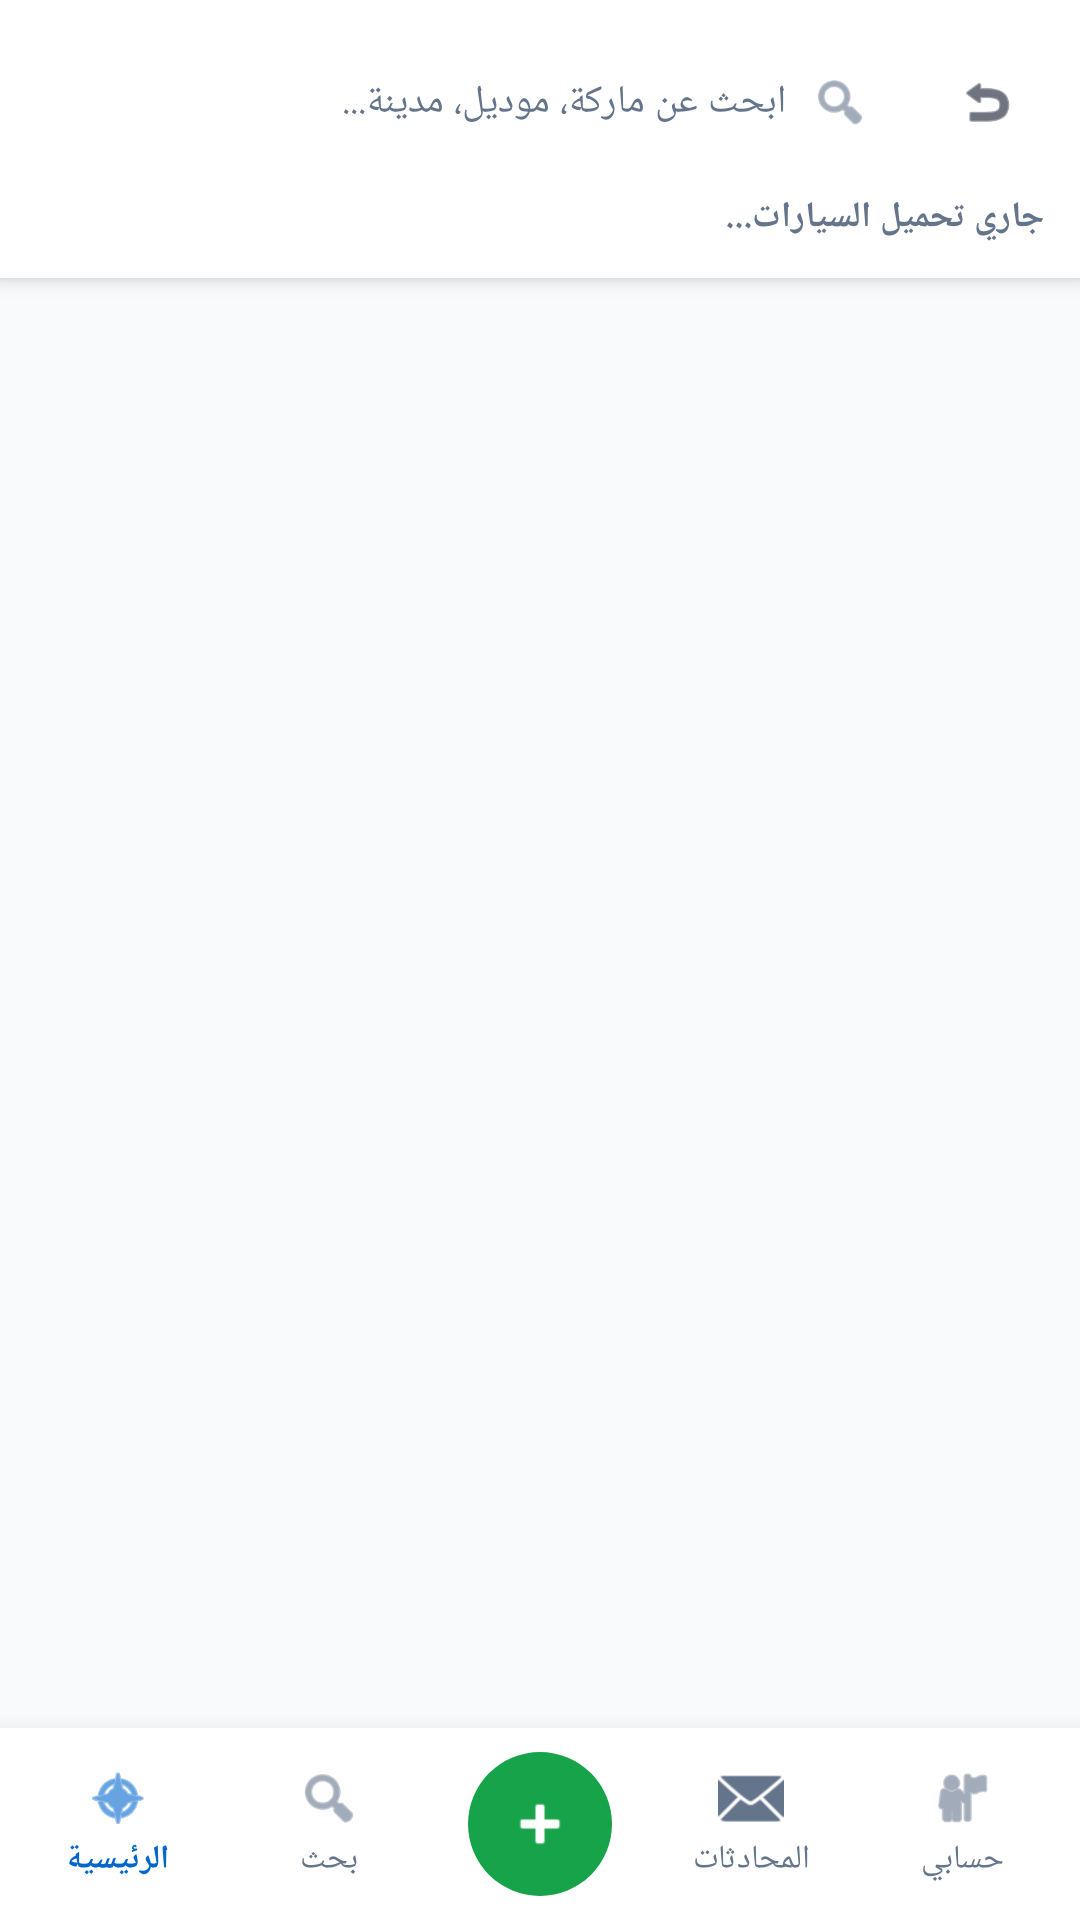

Screen size 1080 x 1920. Icon name, then its center in pixels as point (x, y):
compass: point (118, 1798)
email: point (751, 1798)
myplaces: point (962, 1798)
revert: point (987, 102)
إضافة إعلان: point (540, 1824)
